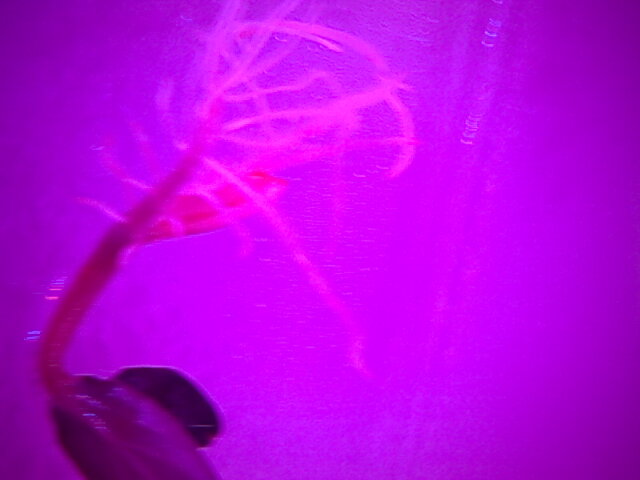seedling: (36, 55, 389, 471)
